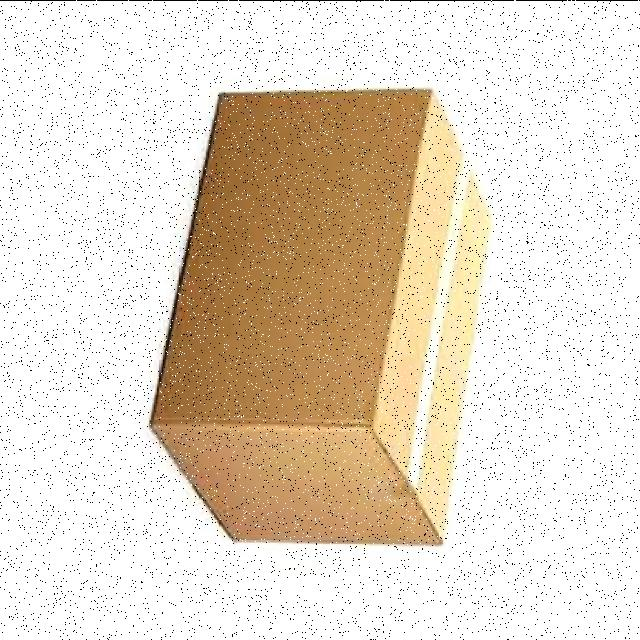normal: (145, 61, 492, 558)
